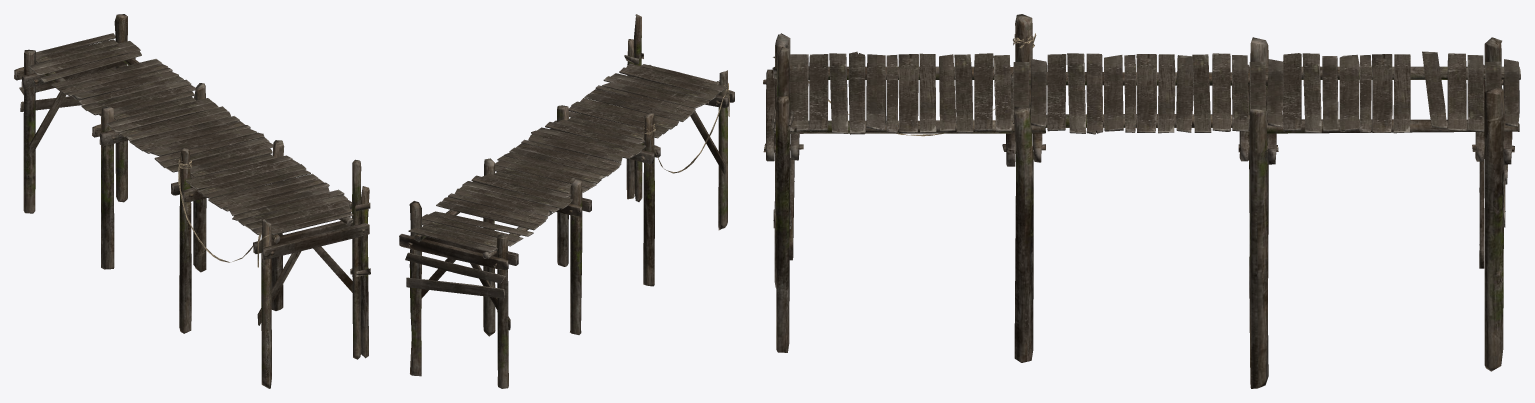
3 views of the same model, side by side, from view 1: azimuth 30°, elevation 25°; view 2: azimuth 150°, elevation 25°; view 3: azimuth 270°, elevation 25° (orthographic). The views are drawn at different scales.
Parts seen in each view (by area): view 1: modular_wooden_pier_lod1; view 2: modular_wooden_pier_lod1; view 3: modular_wooden_pier_lod1.
Part boxes in pixels (<box>): modular_wooden_pier_lod1: <box>14,14,370,388</box>; modular_wooden_pier_lod1: <box>399,14,734,388</box>; modular_wooden_pier_lod1: <box>763,14,1520,388</box>.
Bounding box in the file's own units: 2.52 × 4.62 × 9.34.
Materials: 2 (2 with a texture image).
